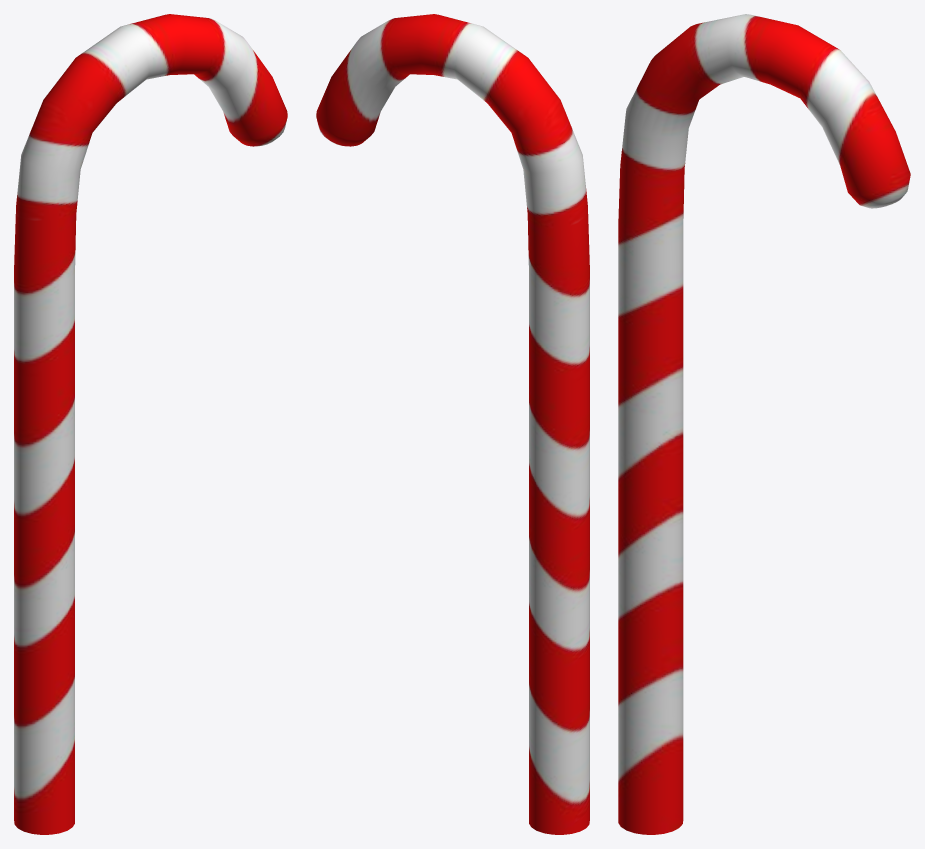
The model's file is BastonLampara.obj.
3 renders of one model, left to right at view 1: azimuth 30°, elevation 25°; view 2: azimuth 150°, elevation 25°; view 3: azimuth 330°, elevation 25°, orthographic. The views are drawn at different scales.
Parts seen in each view (by area): view 1: Cylinder; view 2: Cylinder; view 3: Cylinder.
Part boxes in pixels (x1,y1,x2,y2): Cylinder: (14, 14, 287, 834); Cylinder: (316, 14, 589, 834); Cylinder: (618, 14, 910, 834).
Size of the model in its own units: 1 by 2.79 by 0.2.
Materials: 1 (1 with a texture image).
